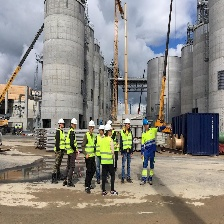helmet: (103, 124, 115, 132), (142, 118, 151, 126), (70, 117, 78, 125), (124, 118, 132, 126), (88, 120, 95, 129), (57, 118, 65, 125), (99, 125, 105, 131)
person: (101, 124, 119, 197), (141, 118, 157, 189), (82, 119, 97, 192), (65, 116, 79, 188), (120, 117, 134, 184), (52, 117, 65, 185), (96, 125, 104, 186)
vest: (142, 130, 159, 154), (102, 136, 115, 165), (120, 128, 134, 154), (84, 130, 96, 159), (66, 128, 78, 155), (54, 128, 65, 153), (96, 134, 102, 158)
